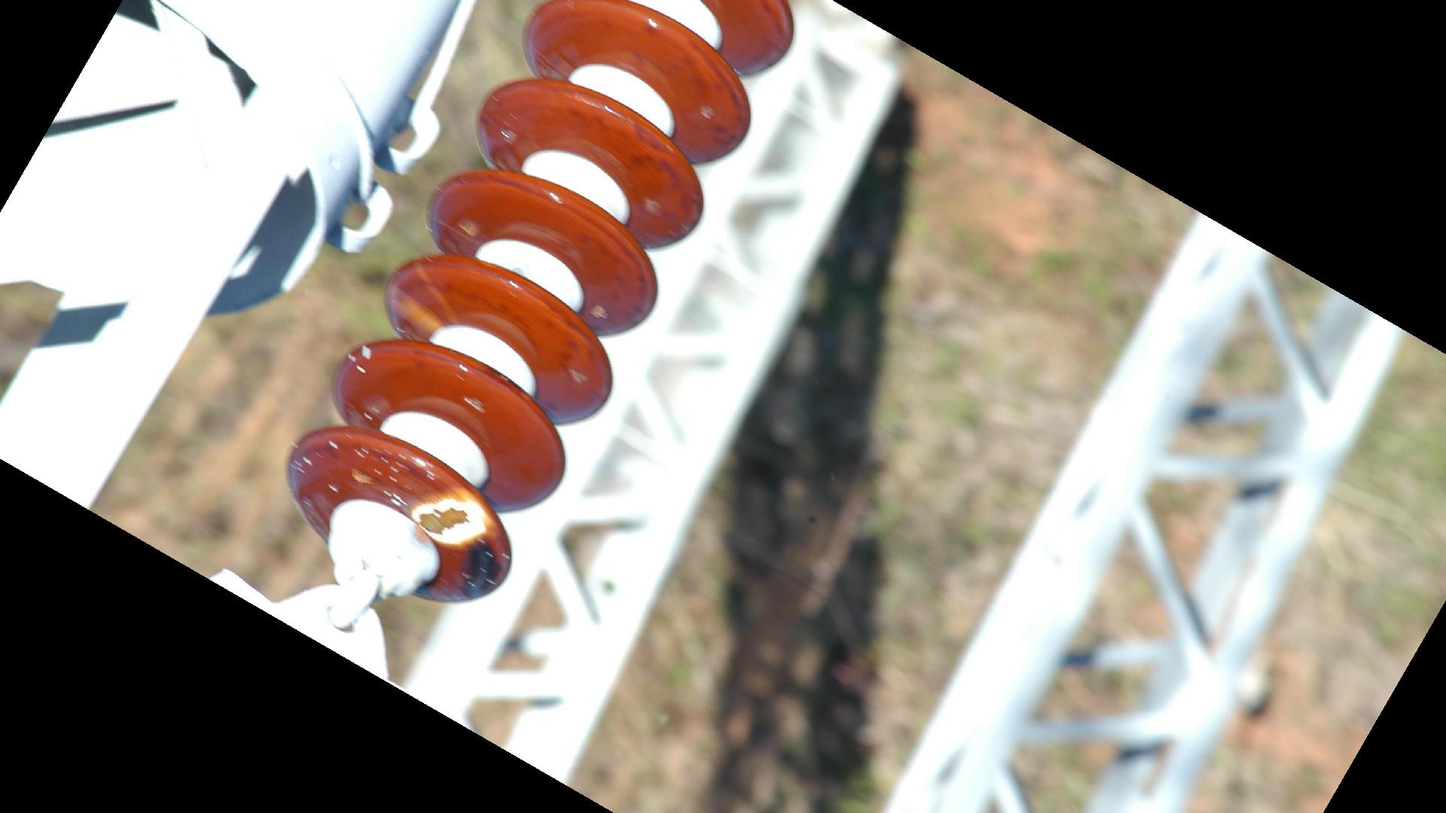insulator: (279, 1, 801, 610)
insulator_flashover: (410, 488, 492, 549), (389, 288, 442, 335)
